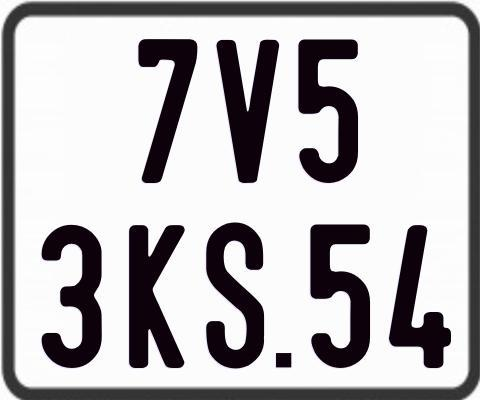3: (39, 223, 103, 371)
4: (386, 225, 452, 371)
5: (296, 37, 356, 186), (310, 221, 371, 367)
7: (137, 37, 197, 185)
K: (128, 225, 188, 371)
S: (205, 221, 267, 370)
V: (216, 37, 282, 180)
